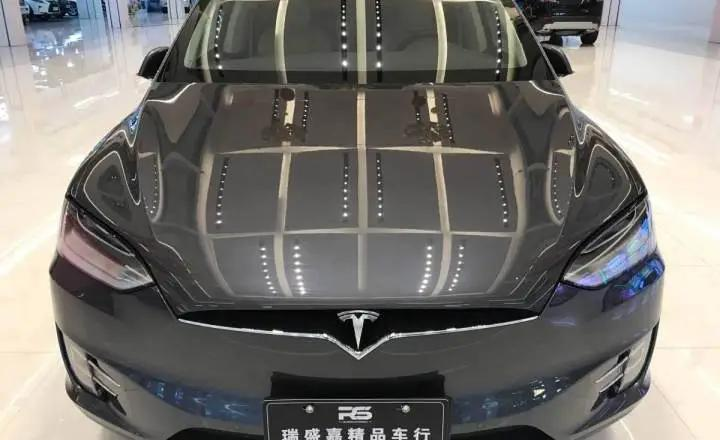Tesla: (338, 309, 380, 351)
